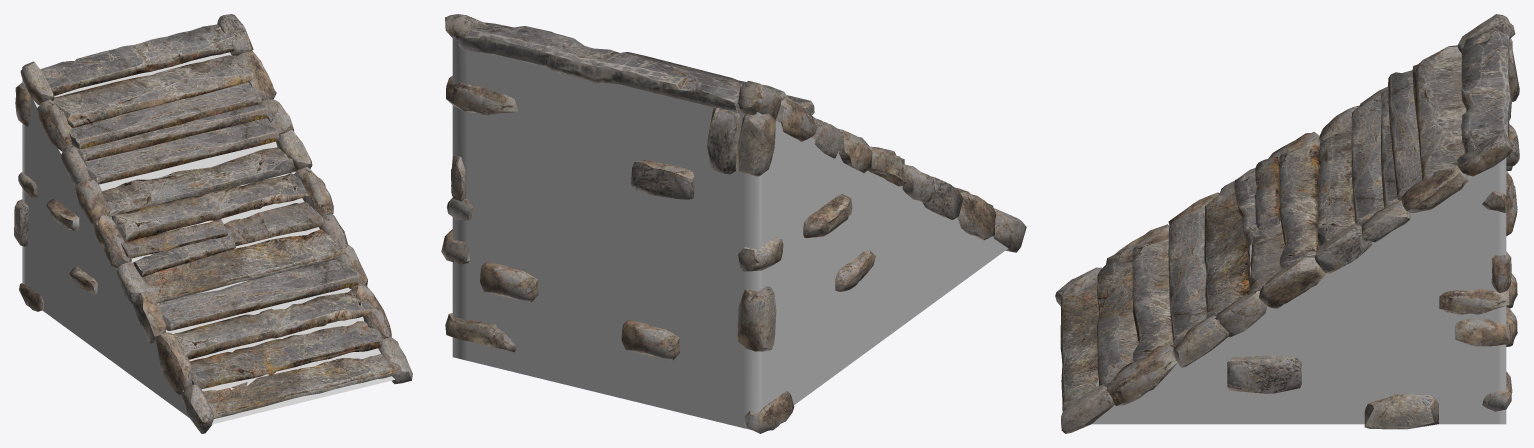
File: SM_StairsBox01.FBX
3 renders of one model, left to right at view 1: azimuth 30°, elevation 25°; view 2: azimuth 150°, elevation 25°; view 3: azimuth 270°, elevation 25°, orthographic. The views are drawn at different scales.
Visible parts, largest first — view 1: SM_StairsBox01; view 2: SM_StairsBox01; view 3: SM_StairsBox01.
Part boxes in pixels (box(x1,y1,x2,y2)): SM_StairsBox01: box(14, 14, 412, 433); SM_StairsBox01: box(441, 14, 1026, 433); SM_StairsBox01: box(1055, 14, 1519, 433).
Bounding box in the file's own units: 328 × 472 × 336.
